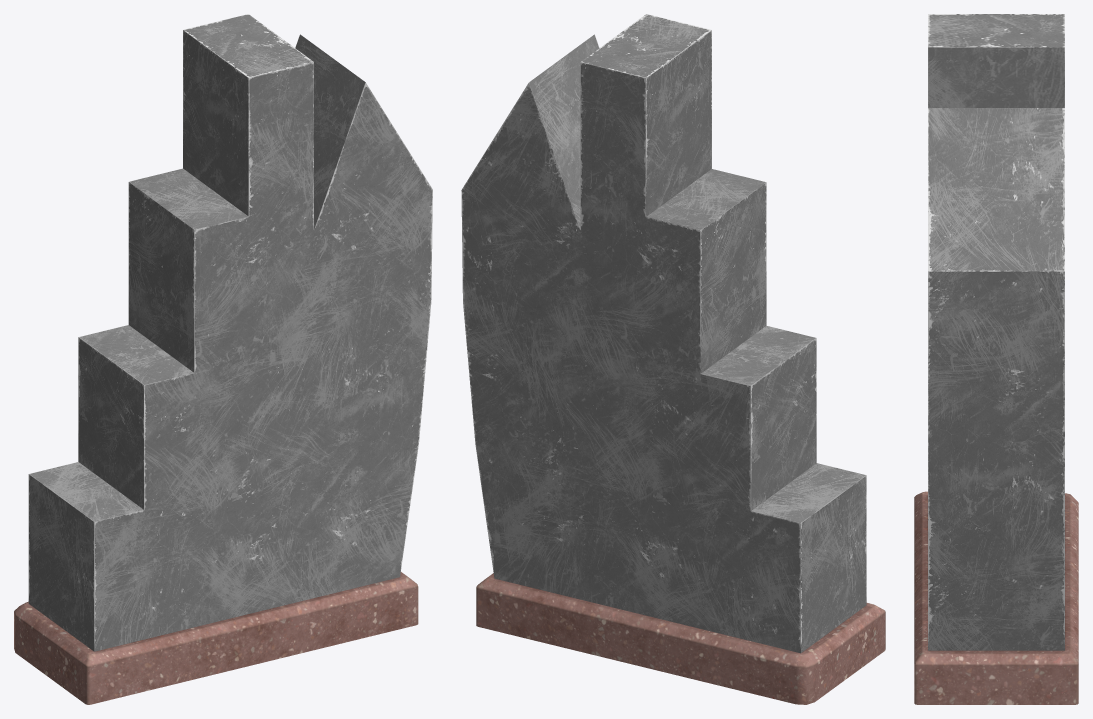
File: KrefeAekyad.glb
3 views of the same model, side by side, from view 1: azimuth 30°, elevation 25°; view 2: azimuth 150°, elevation 25°; view 3: azimuth 270°, elevation 25° (orthographic). The views are drawn at different scales.
Visible parts, largest first — view 1: SM_KrefeAekyad; view 2: SM_KrefeAekyad; view 3: SM_KrefeAekyad.
Boxes of the visible parts, x1,y1,x2,y2 form: SM_KrefeAekyad: [14, 14, 432, 704]; SM_KrefeAekyad: [461, 14, 885, 704]; SM_KrefeAekyad: [914, 14, 1078, 704].
Bounding box in the file's own units: 1.57 × 2.48 × 0.61.
Materials: 1 (1 with a texture image).
